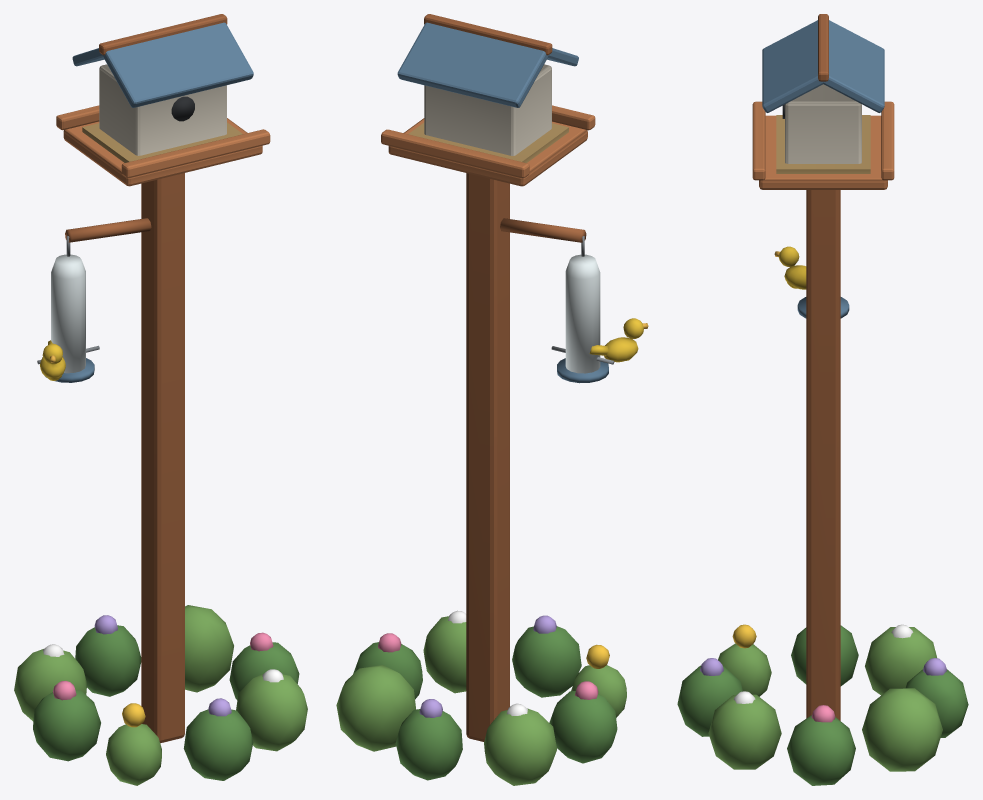
File: birdFeeder.glb
The picture shows the model from 3 angles, left to right: view 1: azimuth 30°, elevation 25°; view 2: azimuth 150°, elevation 25°; view 3: azimuth 270°, elevation 25°; orthographic projection. The views are drawn at different scales.
Visible parts, largest first — view 1: body; view 2: body; view 3: body.
Boxes of the visible parts, x1,y1,x2,y2 form: body: (14, 14, 307, 785); body: (336, 14, 648, 785); body: (677, 14, 968, 785).
Bounding box in the file's own units: 0.7049 × 1.78 × 0.6786.
